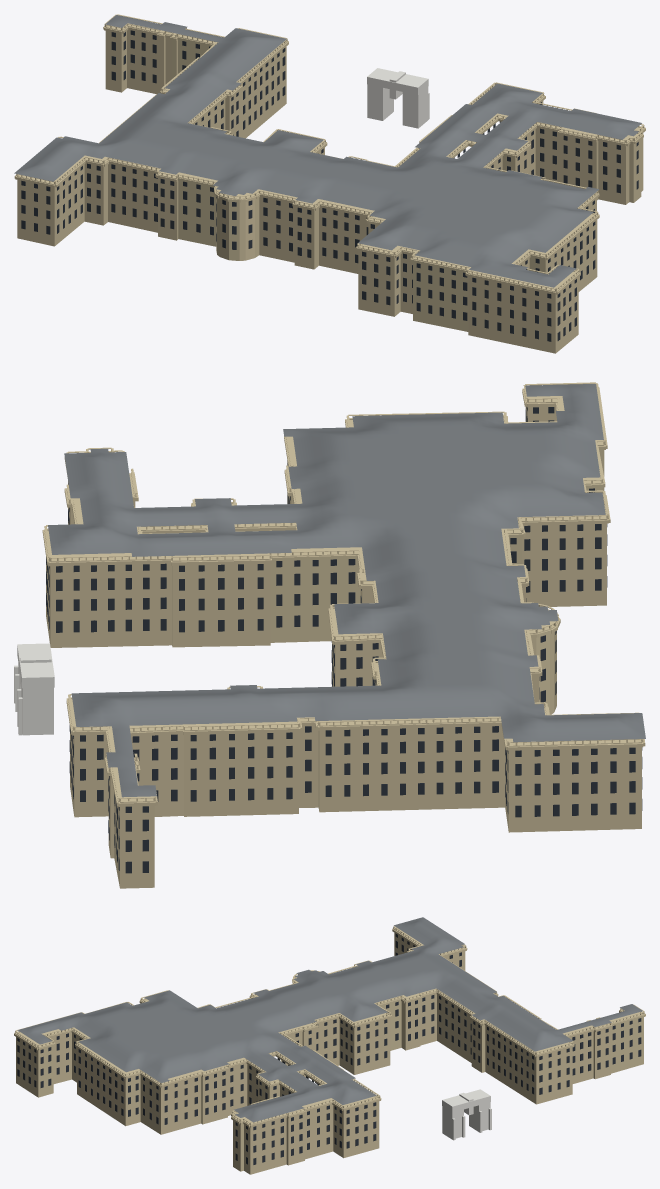
Rendered from buckingham-site-b35.glb.
The picture shows the model from 3 angles, top to bottom: view 1: azimuth 30°, elevation 25°; view 2: azimuth 150°, elevation 25°; view 3: azimuth 270°, elevation 25°; orthographic projection. The views are drawn at different scales.
Bounding box in the file's own units: 190 × 25.36 × 247.
